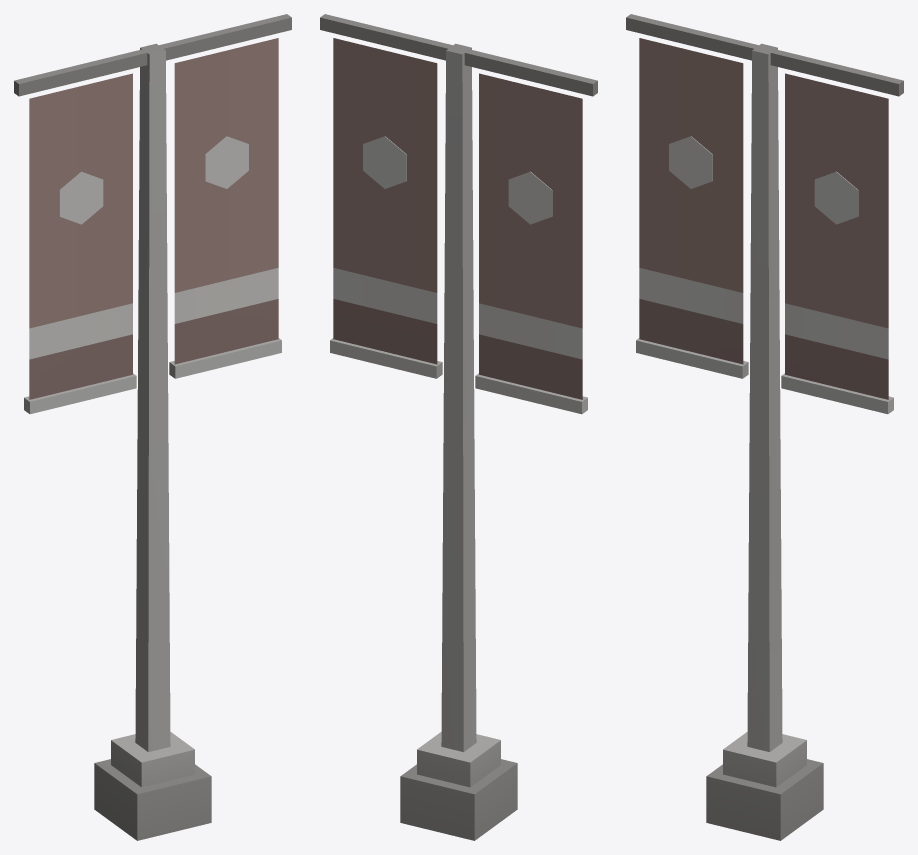
The model's file is banner.lod1.glb.
3 views of the same model, side by side, from view 1: azimuth 30°, elevation 25°; view 2: azimuth 150°, elevation 25°; view 3: azimuth 330°, elevation 25° (orthographic).
Size of the model in its own units: 1.84 by 4.94 by 0.4999.
